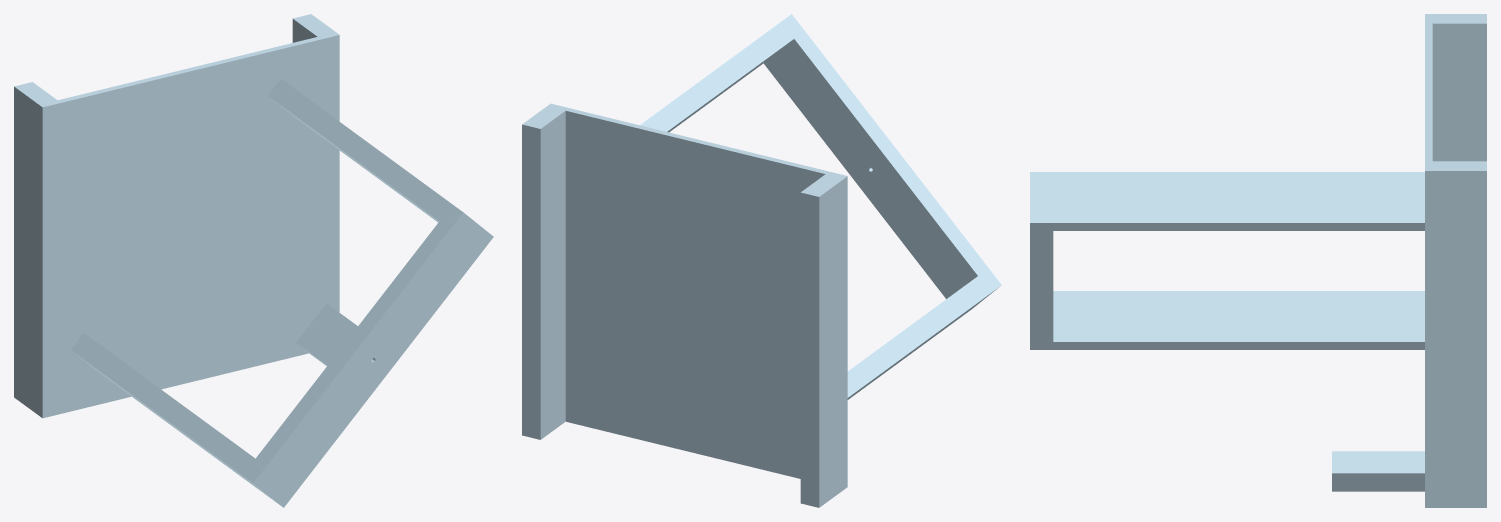
3 renders of one model, left to right at view 1: azimuth 30°, elevation 25°; view 2: azimuth 150°, elevation 25°; view 3: azimuth 270°, elevation 25°, orthographic. The views are drawn at different scales.
Parts seen in each view (by area): view 1: mesh69, mesh64, mesh61, mesh70, mesh74, mesh79, mesh63; view 2: mesh73, mesh64, mesh66, mesh70, mesh75, mesh71, mesh76, mesh74; view 3: mesh78, mesh62, mesh68, mesh65, mesh72, mesh74, mesh80, mesh81.
Part boxes in pixels (box(x1,y1,x2,y2)): mesh69: box(42, 35, 339, 418); mesh64: box(71, 79, 462, 482); mesh61: box(253, 212, 493, 507); mesh70: box(14, 86, 42, 417); mesh74: box(14, 14, 339, 107); mesh79: box(296, 303, 357, 365); mesh63: box(74, 352, 281, 506); mesh73: box(565, 111, 825, 478); mesh64: box(640, 14, 1001, 397); mesh66: box(764, 39, 977, 298); mesh70: box(819, 176, 847, 507); mesh75: box(540, 111, 565, 439); mesh71: box(800, 192, 819, 507); mesh76: box(522, 124, 540, 439); mesh74: box(522, 103, 847, 196); mesh78: box(1425, 171, 1486, 507); mesh62: box(1030, 172, 1424, 222); mesh68: box(1053, 291, 1424, 341); mesh65: box(1030, 223, 1424, 349); mesh72: box(1432, 23, 1486, 161); mesh74: box(1425, 14, 1486, 170); mesh80: box(1332, 451, 1424, 473); mesh81: box(1332, 473, 1424, 491).
Bounding box in the file's own units: 0.6096 × 0.6096 × 0.7493.
